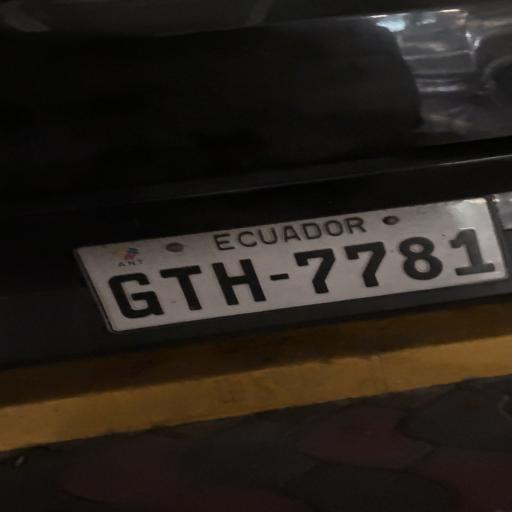license_plate: (77, 199, 506, 331)
